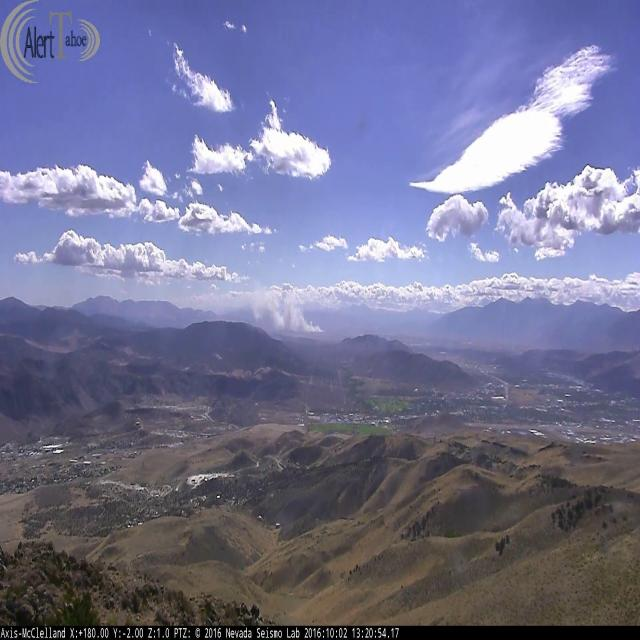smoke: (252, 295, 325, 333)
